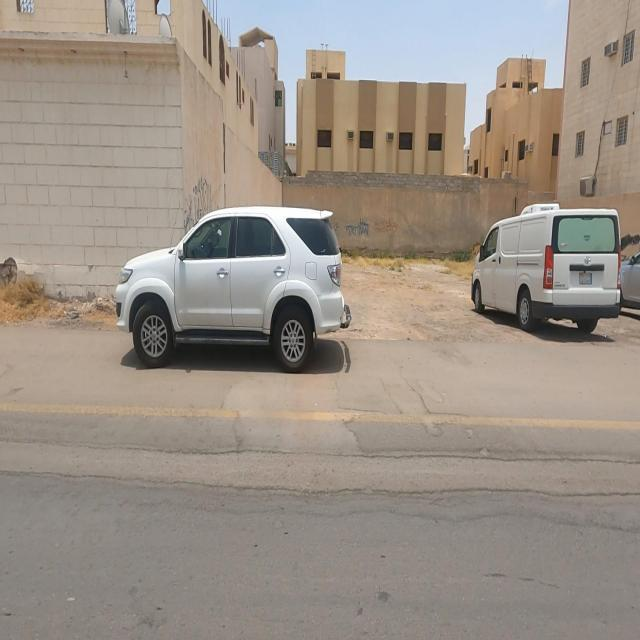debris: (152, 129, 268, 288), (314, 165, 406, 287)
